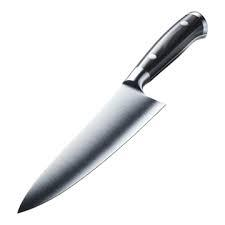Knife: (16, 10, 208, 213)
